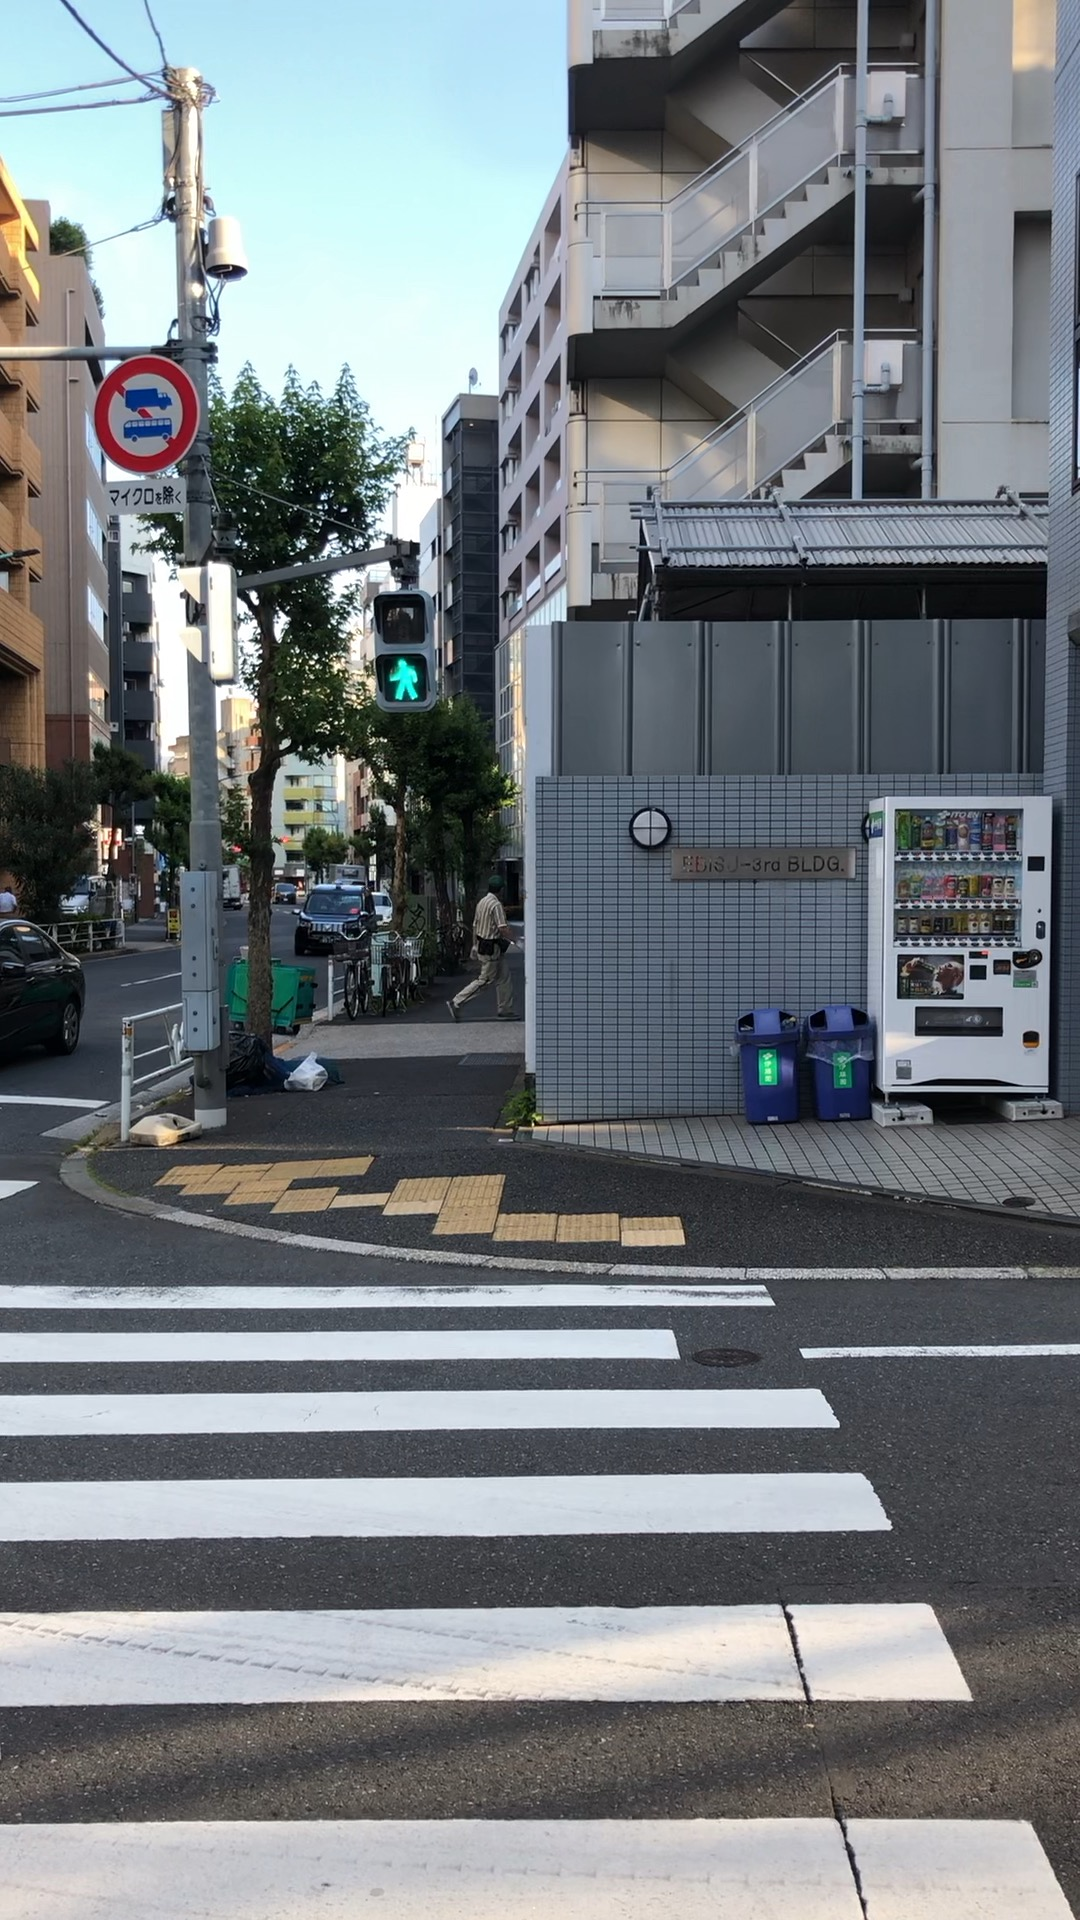green: (369, 589, 440, 708)
